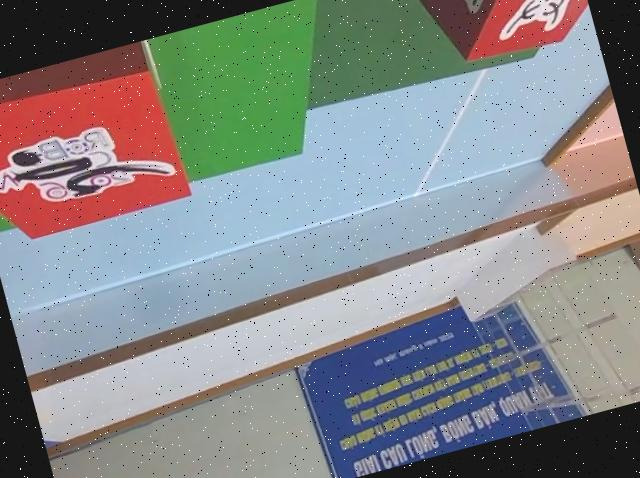R1: (0, 38, 189, 251)
R2 Real: (404, 0, 595, 72)
